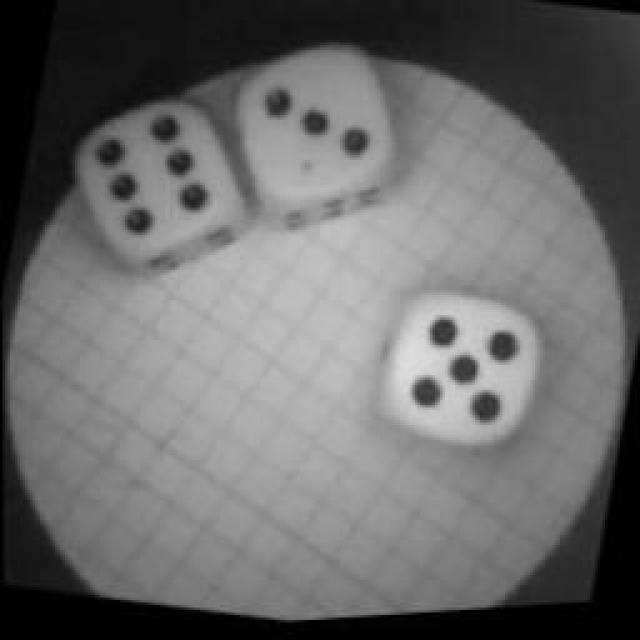dice_3: (216, 25, 412, 243)
dice_5: (357, 276, 565, 484)
dice_6: (53, 82, 255, 290)
